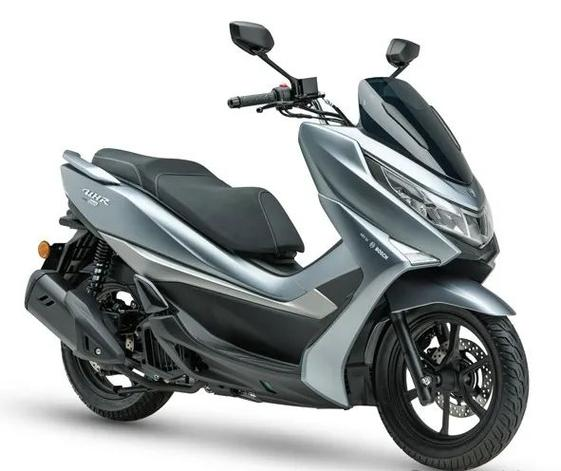摩托车: (27, 12, 536, 469)
